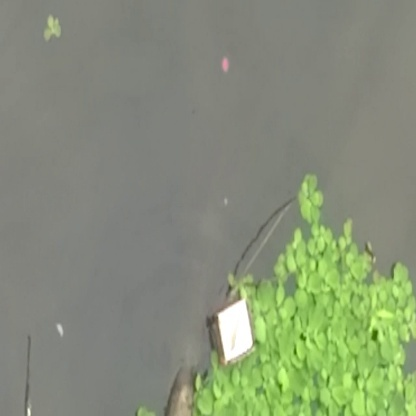milk-box: (207, 296, 257, 361)
